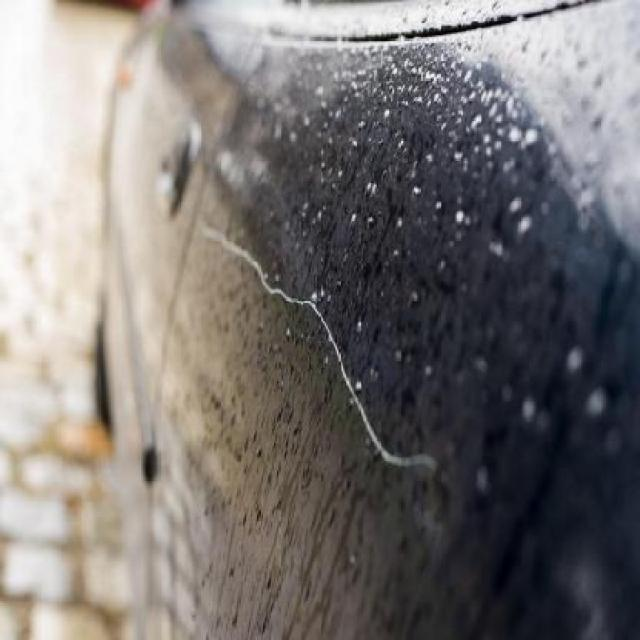scratch: (172, 198, 482, 500)
